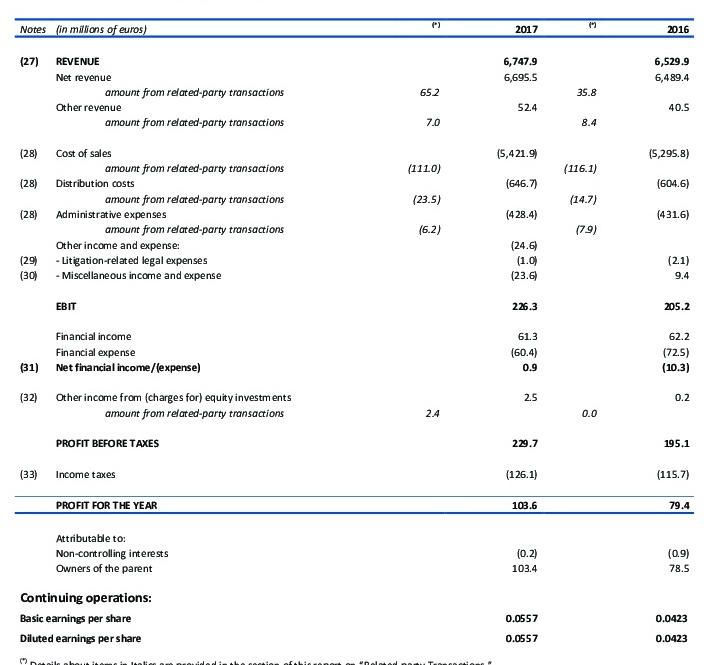table: (0, 0, 712, 665)
